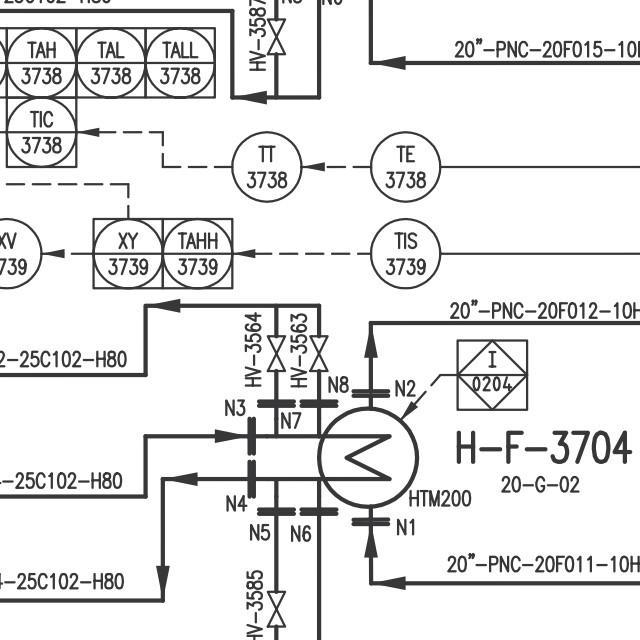GV: (263, 15, 289, 58), (263, 586, 287, 631), (307, 330, 330, 375), (263, 330, 286, 374)
HE: (316, 406, 421, 510)
